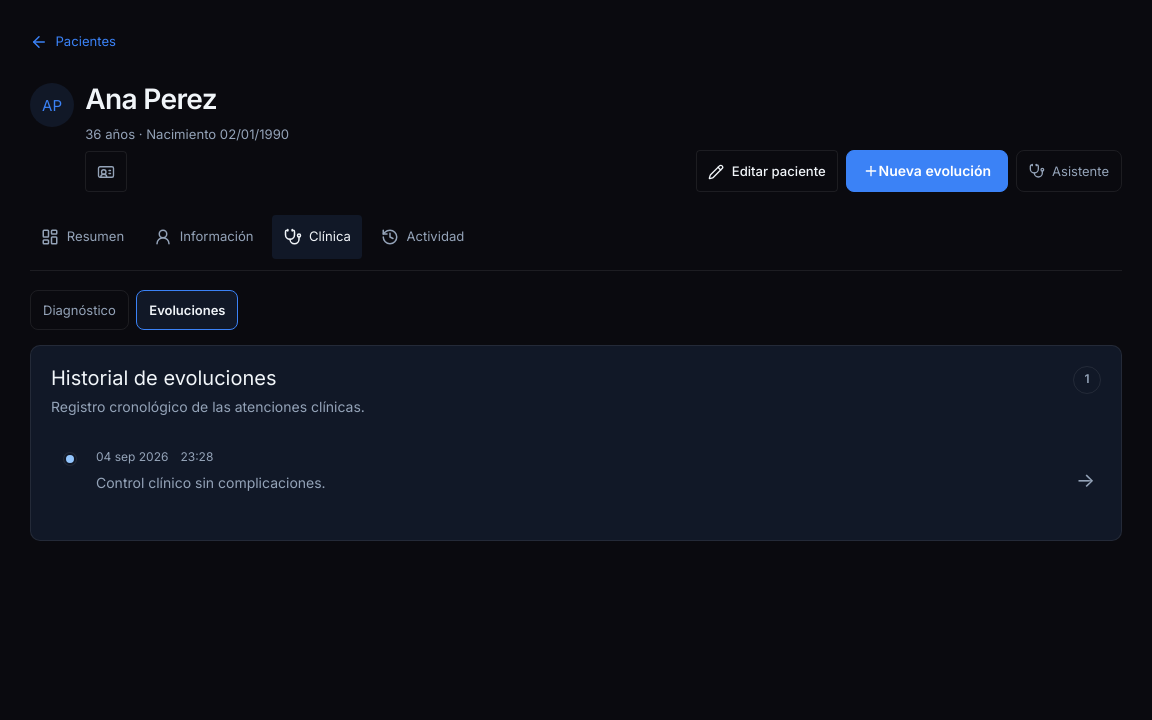
Test case: PatientDetail evolution workspace › updates the URL when an evolution is selected from the history
The width and height of the screenshot is (1152, 720).
What coordinates should you click on to do the following:
click the link with aria-label "Ver evolución del"
I would click on:
 (132, 457)
Its box is [64,449,1095,492].
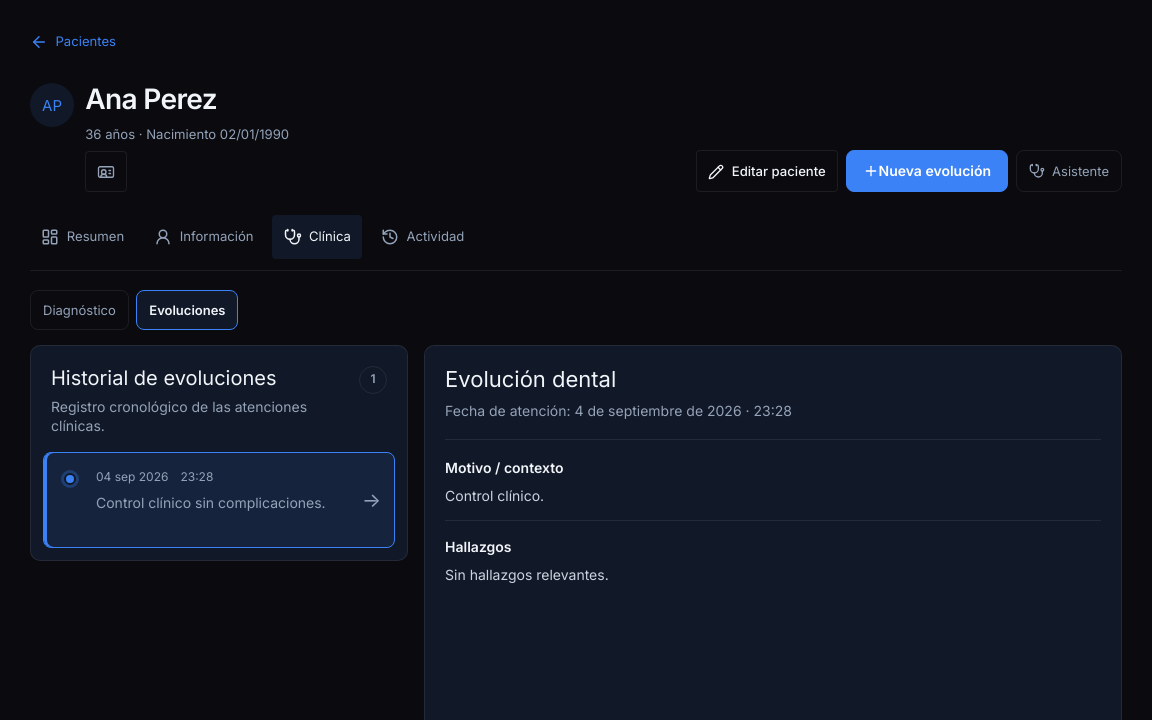
Now the heading "Motivo / contexto" is shown, box [445,459,564,476]
